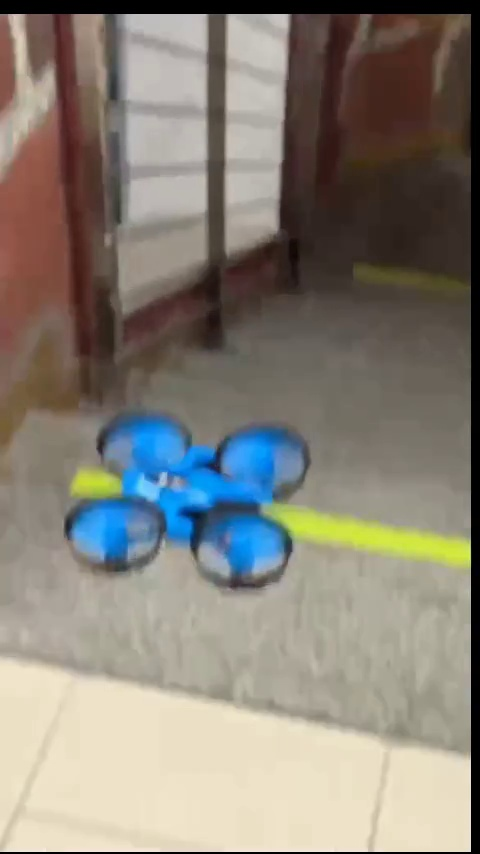drone: (68, 417, 310, 584)
